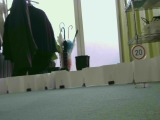speed_20: (130, 44, 146, 60)
